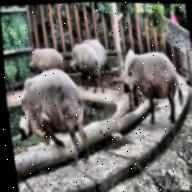boar: (4, 67, 97, 164), (112, 48, 192, 125), (56, 35, 115, 94), (21, 37, 74, 84)
